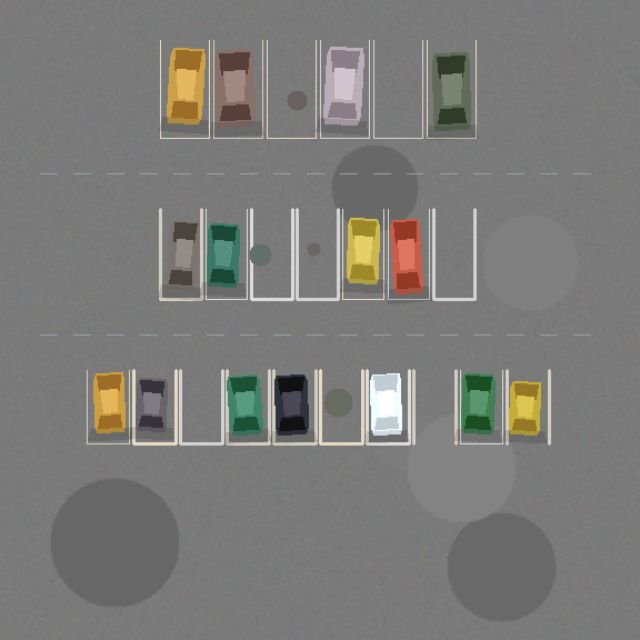space-empty: (267, 40, 316, 138), (373, 40, 422, 138), (251, 209, 292, 299), (297, 209, 338, 299), (433, 209, 474, 299), (413, 370, 456, 443), (180, 370, 222, 443), (320, 370, 362, 443)
space-occupied: (160, 40, 209, 138), (213, 40, 262, 138), (320, 40, 369, 138), (427, 40, 476, 138), (160, 209, 201, 299), (206, 209, 247, 299), (342, 209, 383, 299), (388, 209, 429, 299), (133, 370, 176, 443), (273, 370, 316, 443), (87, 370, 129, 443), (227, 370, 269, 443), (367, 370, 409, 443), (460, 370, 502, 443), (507, 370, 549, 443)
